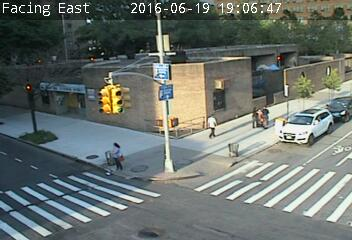neg: (220, 138, 241, 166), (277, 85, 297, 111), (300, 134, 319, 159), (188, 105, 207, 129), (96, 159, 110, 177)
pos: (101, 136, 128, 172), (200, 110, 222, 139), (245, 103, 264, 128), (256, 105, 273, 127)
